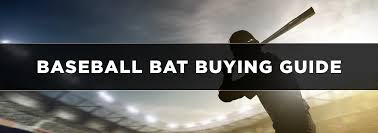baseball bat: (256, 4, 316, 51)
